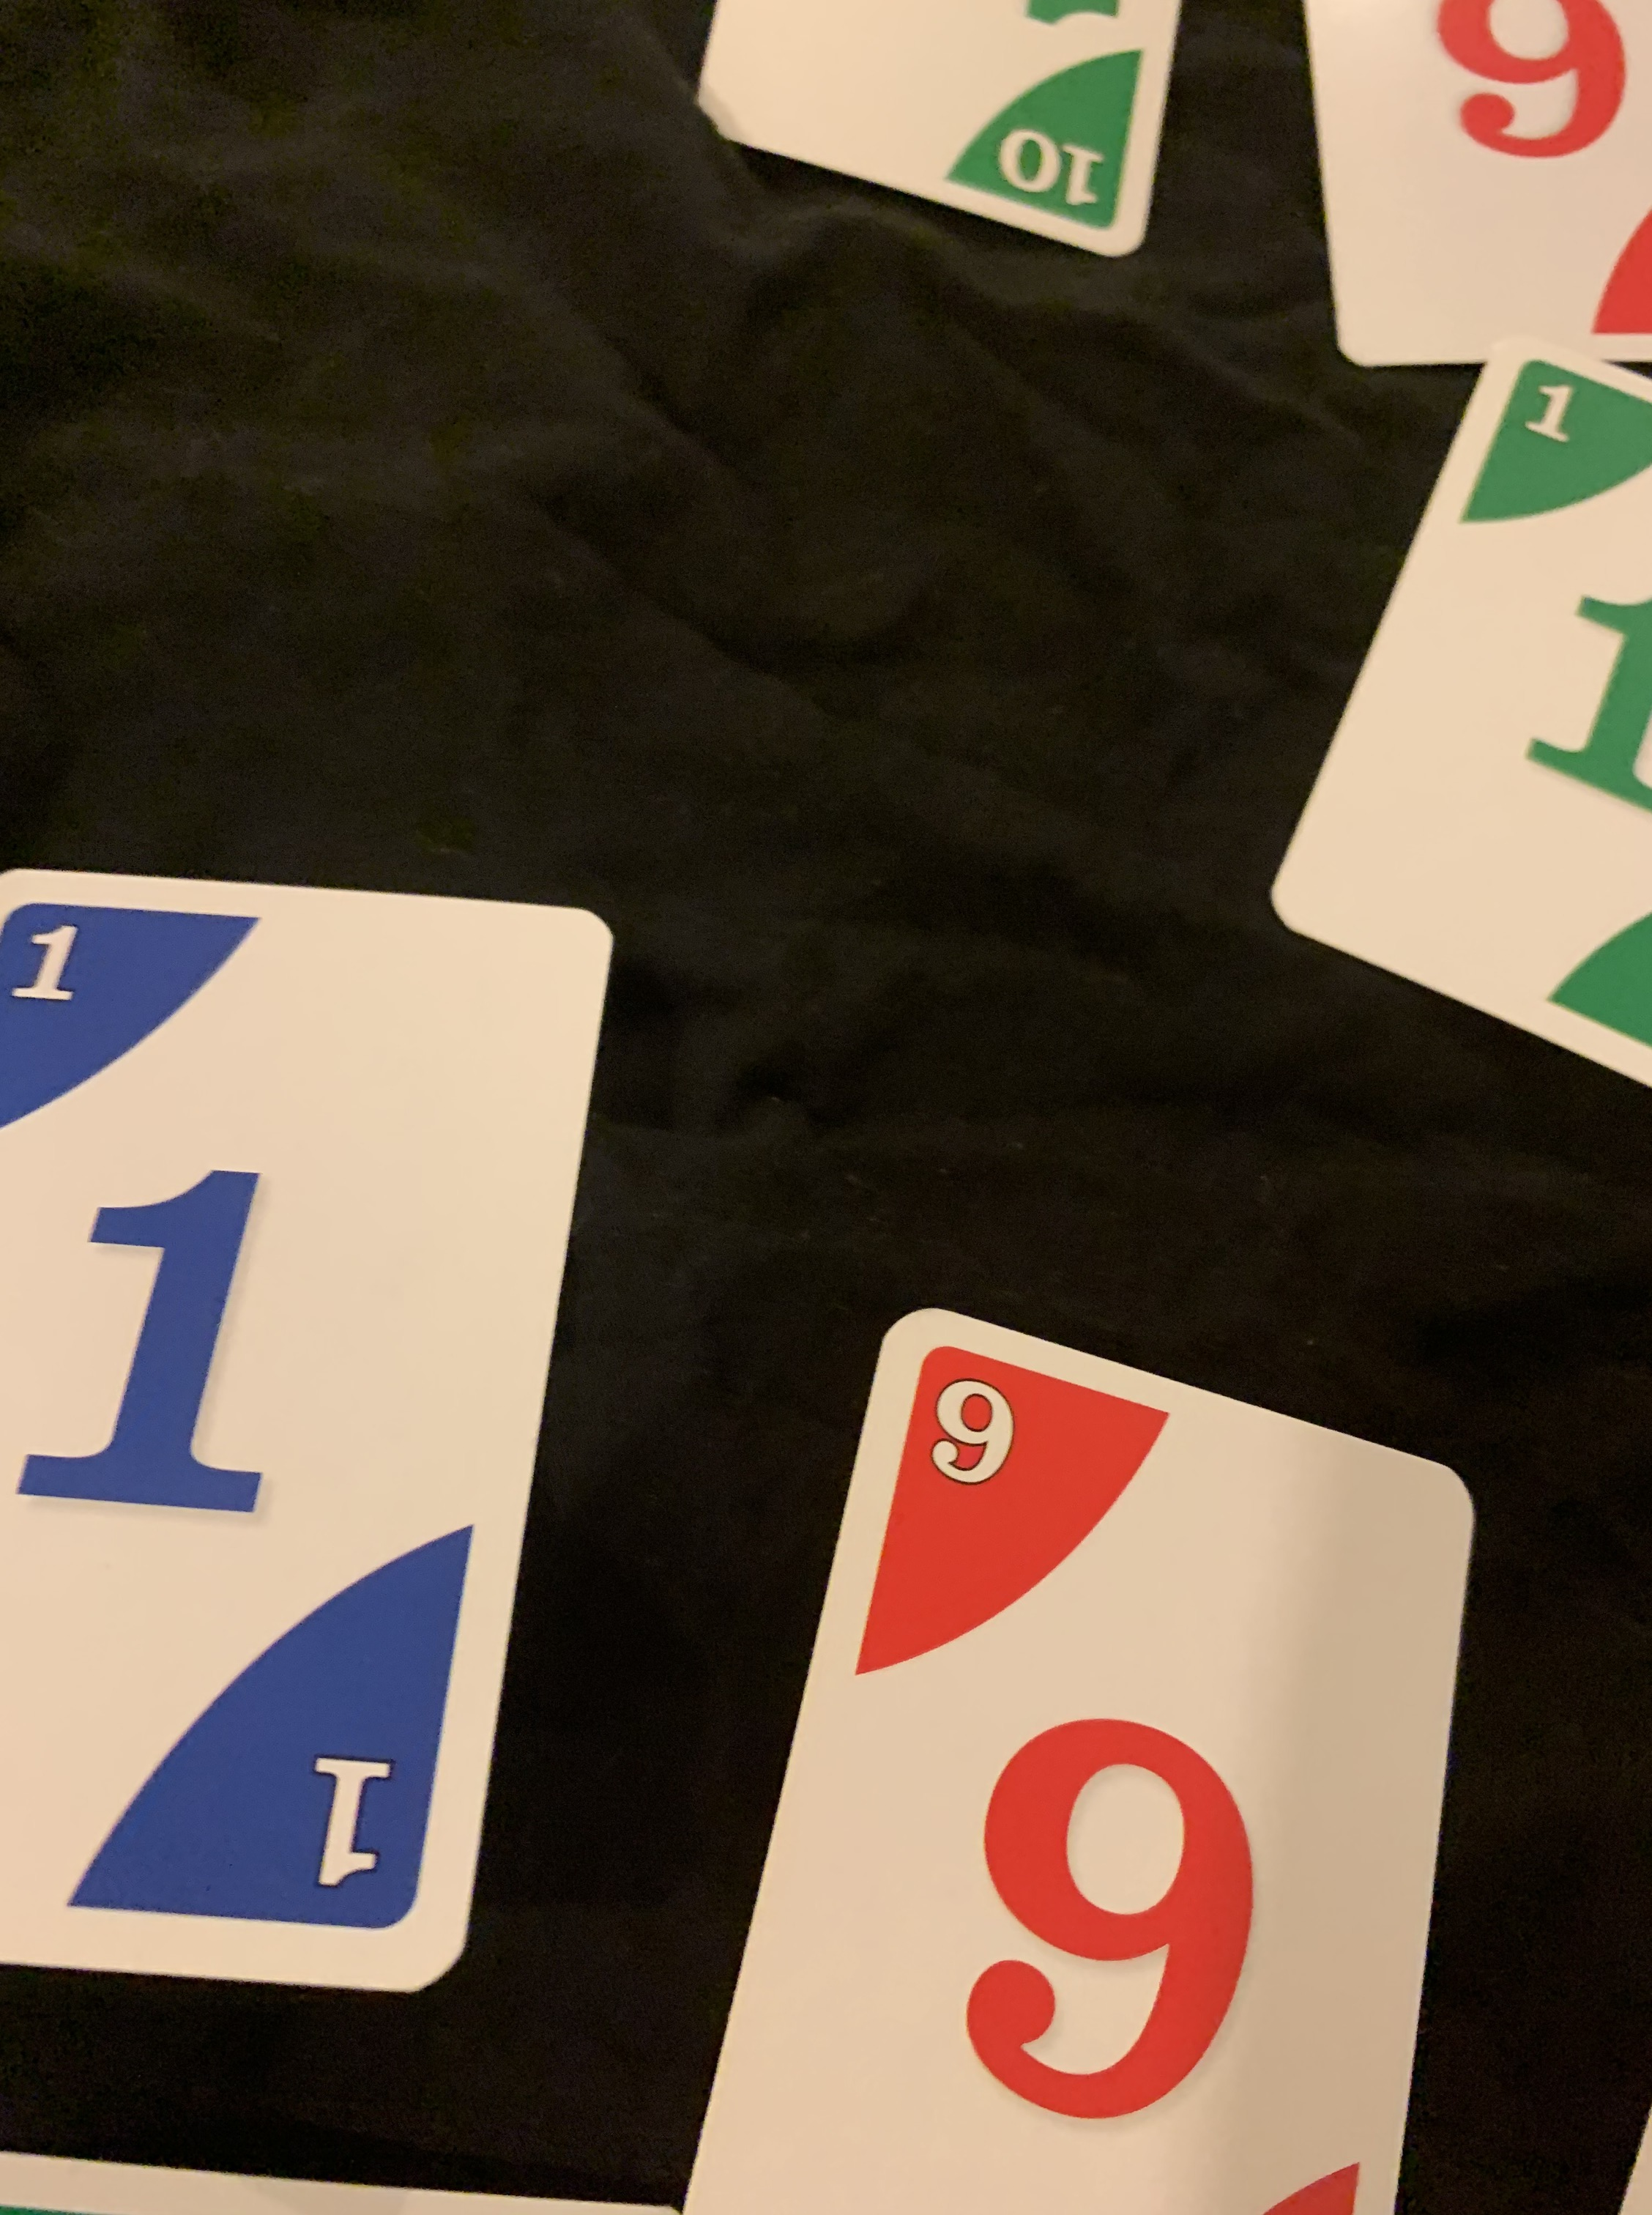nine: (659, 1326, 1473, 2215)
one: (0, 852, 607, 2017), (1270, 337, 1652, 1088)
